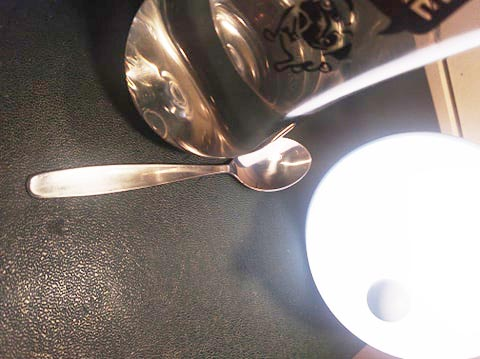Lyzka: (226, 136, 320, 195)
